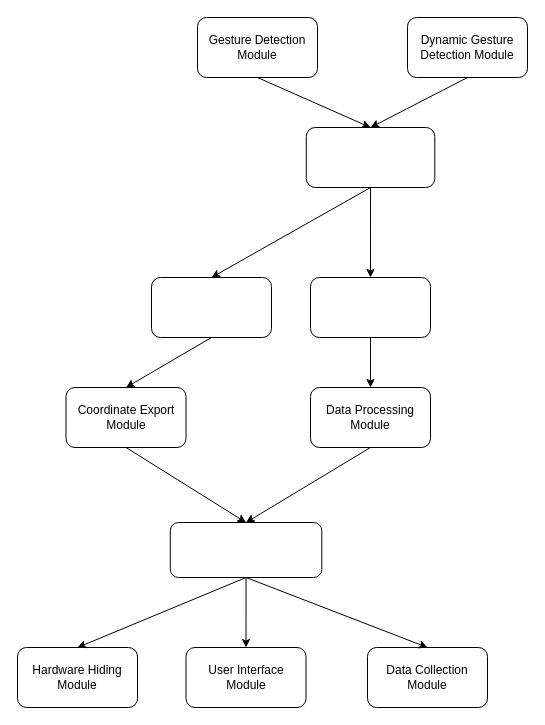
This 545x725 diagram has some shape labels left out. Each missing label, with the centre of its shape:
"Coordinate Normalization Module" belongs at [211,307].
"Machine Learning Module (Static & Dynamic)" belongs at [245,550].
"Video Analysis Module" belongs at [370,307].
"Video Capture Module" belongs at [370,157].
